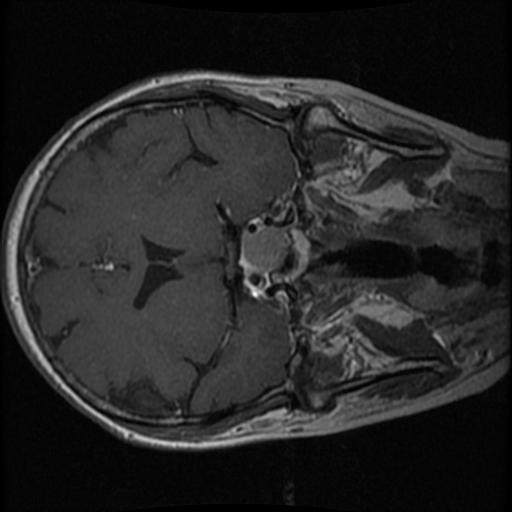pituitary tumour: (240, 227, 290, 276)
